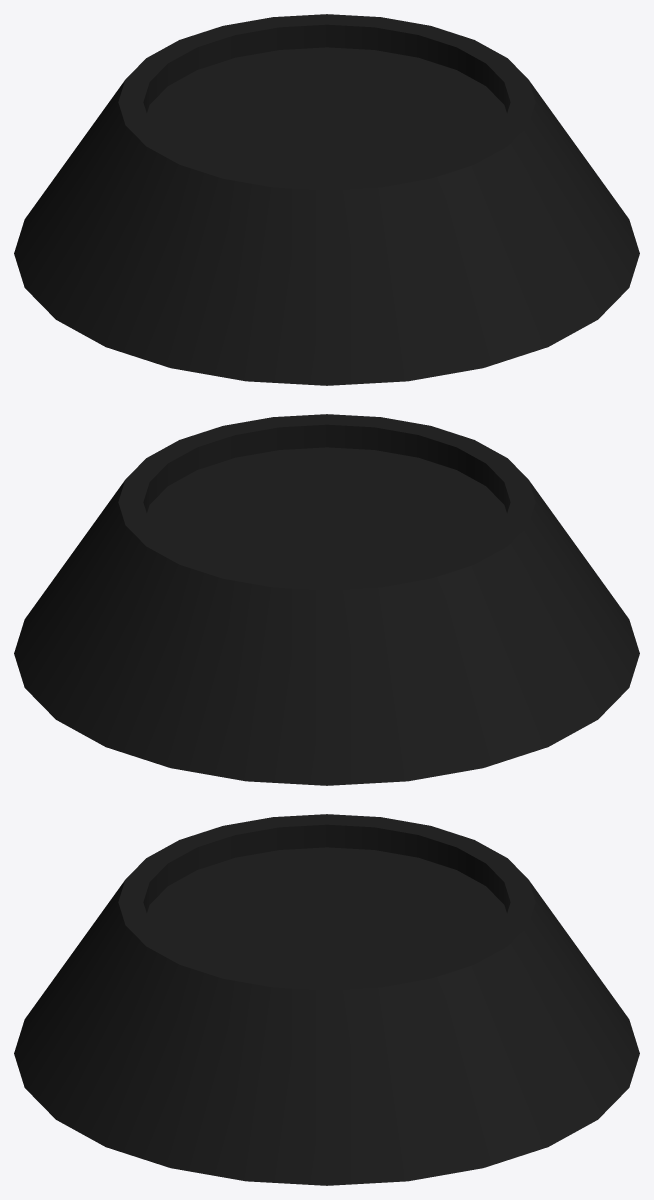
Rendered from aquarius_parachute_s0p5_1.obj.
3 renders of one model, top to bottom at view 1: azimuth 30°, elevation 25°; view 2: azimuth 150°, elevation 25°; view 3: azimuth 270°, elevation 25°, orthographic.
Visible parts, largest first — view 1: aquarius_parachute_s0p5_1; view 2: aquarius_parachute_s0p5_1; view 3: aquarius_parachute_s0p5_1.
Boxes of the visible parts, <box> form: aquarius_parachute_s0p5_1: <box>14,14,639,385</box>; aquarius_parachute_s0p5_1: <box>14,414,639,785</box>; aquarius_parachute_s0p5_1: <box>14,814,639,1185</box>.
Size of the model in its own units: 0.9375 by 0.25 by 0.9375.
